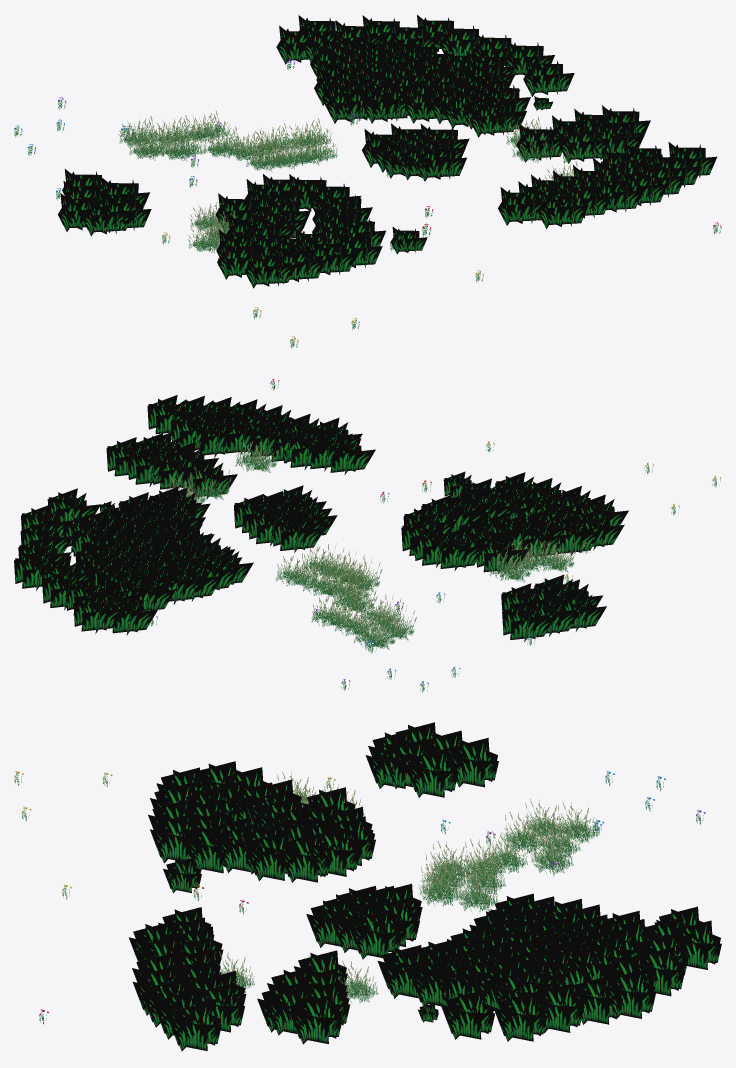
Rendered from grass.fbx.
3 views of the same model, one above another, from view 1: azimuth 30°, elevation 25°; view 2: azimuth 150°, elevation 25°; view 3: azimuth 270°, elevation 25° (orthographic). The views are drawn at different scales.
Visible parts, largest first — view 1: grass1; view 2: grass1; view 3: grass1.
Part boxes in pixels (x1,y1,x2,y2): grass1: (14, 15, 721, 348); grass1: (14, 379, 720, 692); grass1: (14, 722, 721, 1051).
Bounding box in the file's own units: 267 × 15.08 × 260.
7 materials, 7 textured.
